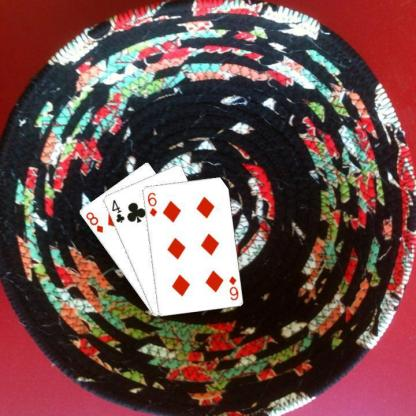4C: (110, 197, 126, 224)
6D: (144, 189, 158, 218), (227, 273, 239, 301)
8D: (83, 209, 104, 234)
